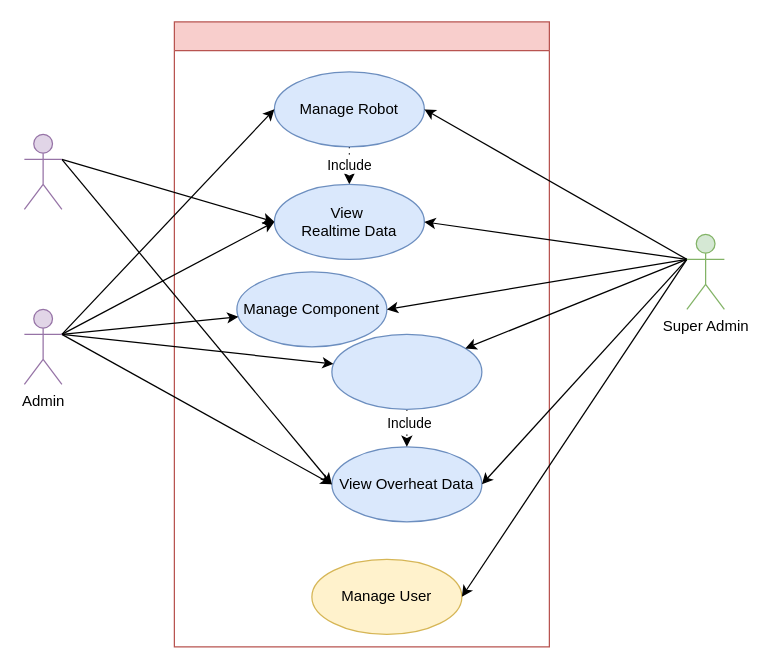
The diagram is 770 pixels wide and 669 high, and some of its shapes have lost their labels. The shapes that lost their labels are listed below. From the top down, each one's box as (x1, y1, x2, y2) in pixels, then its label:
(23, 133, 62, 209): User
(173, 21, 549, 647): HotDog Control Station
(331, 333, 482, 409): Manage Patrol
